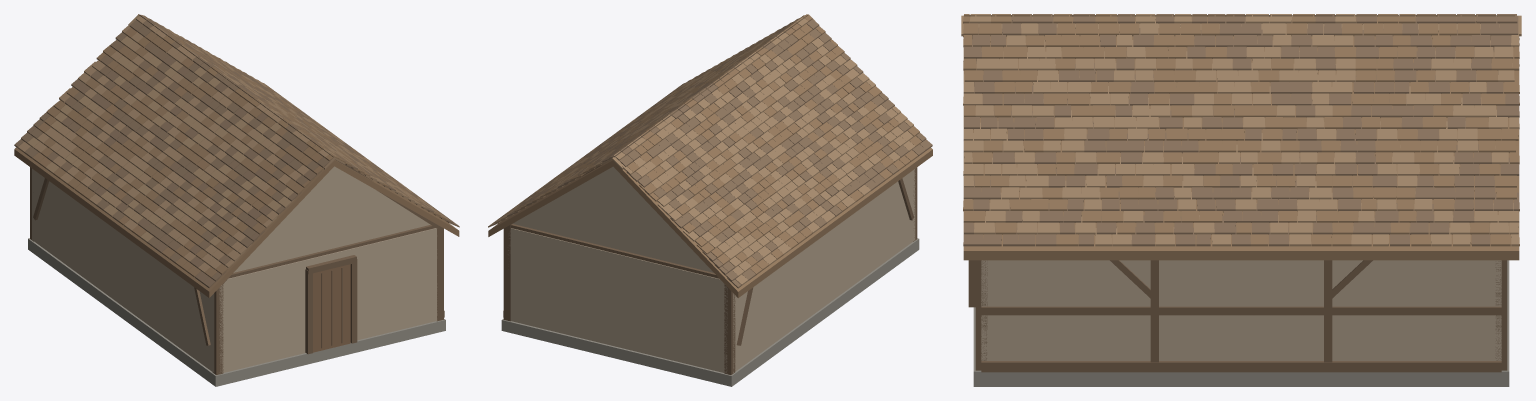
Rendered from art01_B_timber_frame.glb.
The picture shows the model from 3 angles, left to right: view 1: azimuth 30°, elevation 25°; view 2: azimuth 150°, elevation 25°; view 3: azimuth 270°, elevation 25°; orthographic projection. The views are drawn at different scales.
Parts seen in each view (by area): view 1: 09A_ShingleField.003, 08A_SideClay.006, 08A_GableClay.006, 08A_FrontClay.006, 08A_FrontClay.007, 08A_Sill.003, 09A_Deck.006, 08A_Door.003, 09A_Deck.007, 08A_EndWallPlate.006, 08A_CornerPost.012, 08A_DoorJamb.006 (+3 smaller); view 2: 09A_ShingleField.003, 08A_RearClay.003, 08A_SideClay.006, 08A_GableClay.007, 08A_Sill.003, 09A_Deck.006, 09A_Deck.007, 08A_EndWallPlate.007, 08A_CornerPost.013, 08A_CornerPost.015; view 3: 09A_ShingleField.003, 08A_SideClay.007, 09A_Deck.007, 08A_Sill.003, ART01_SideSill, ART01_MidRail, 08A_CornerPost.014, 08A_CornerPost.015, ART01_IntermediatePost_1, ART01_IntermediatePost_2.
Part boxes in pixels (x1=…): 09A_ShingleField.003: x1=14, y1=14, x2=459, y2=287; 08A_SideClay.006: x1=32, y1=168, x2=214, y2=372; 08A_GableClay.006: x1=233, y1=166, x2=430, y2=272; 08A_FrontClay.006: x1=219, y1=259, x2=310, y2=372; 08A_FrontClay.007: x1=350, y1=228, x2=437, y2=340; 08A_Sill.003: x1=28, y1=238, x2=445, y2=386; 09A_Deck.006: x1=14, y1=147, x2=334, y2=297; 08A_Door.003: x1=313, y1=264, x2=350, y2=352; 09A_Deck.007: x1=334, y1=160, x2=459, y2=236; 08A_EndWallPlate.006: x1=228, y1=225, x2=435, y2=278; 08A_CornerPost.012: x1=212, y1=284, x2=223, y2=374; 08A_DoorJamb.006: x1=305, y1=269, x2=312, y2=354; 09A_ShingleField.003: x1=488, y1=14, x2=932, y2=288; 08A_RearClay.003: x1=508, y1=228, x2=727, y2=373; 08A_SideClay.006: x1=733, y1=169, x2=915, y2=372; 08A_GableClay.007: x1=513, y1=166, x2=713, y2=272; 08A_Sill.003: x1=501, y1=238, x2=919, y2=386; 09A_Deck.006: x1=613, y1=148, x2=932, y2=297; 09A_Deck.007: x1=488, y1=159, x2=613, y2=236; 08A_EndWallPlate.007: x1=511, y1=224, x2=719, y2=278; 08A_CornerPost.013: x1=724, y1=284, x2=735, y2=374; 08A_CornerPost.015: x1=503, y1=223, x2=512, y2=321; 09A_ShingleField.003: x1=963, y1=14, x2=1519, y2=246; 08A_SideClay.007: x1=981, y1=260, x2=1501, y2=360; 09A_Deck.007: x1=963, y1=36, x2=1519, y2=260; 08A_Sill.003: x1=973, y1=260, x2=1509, y2=386; ART01_SideSill: x1=981, y1=361, x2=1501, y2=372; ART01_MidRail: x1=981, y1=306, x2=1501, y2=315; 08A_CornerPost.014: x1=975, y1=260, x2=987, y2=370; 08A_CornerPost.015: x1=1495, y1=260, x2=1507, y2=370; ART01_IntermediatePost_1: x1=1150, y1=260, x2=1158, y2=362; ART01_IntermediatePost_2: x1=1324, y1=260, x2=1332, y2=362.
Size of the model in its own units: 5.78 by 4.53 by 7.87.
